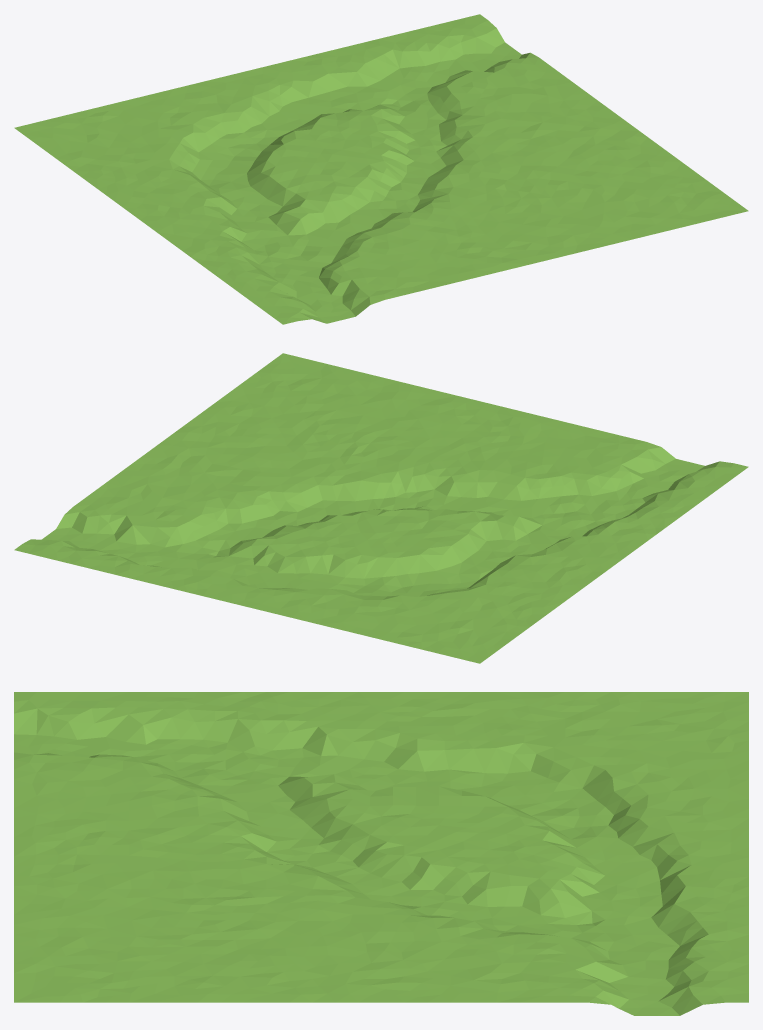
The model's file is MT_River_L_b_02_LOD.fbx.
The picture shows the model from 3 angles, top to bottom: view 1: azimuth 30°, elevation 25°; view 2: azimuth 150°, elevation 25°; view 3: azimuth 270°, elevation 25°; orthographic projection. The views are drawn at different scales.
Visible parts, largest first — view 1: MT_River_L_b_02_LOD0; view 2: MT_River_L_b_02_LOD0; view 3: MT_River_L_b_02_LOD0.
Part boxes in pixels (x1=…): MT_River_L_b_02_LOD0: x1=14, y1=14, x2=748, y2=324; MT_River_L_b_02_LOD0: x1=14, y1=353, x2=748, y2=663; MT_River_L_b_02_LOD0: x1=14, y1=692, x2=748, y2=1015.
Size of what is drawn, in the model's own units: 10000 by 273 by 10000.
